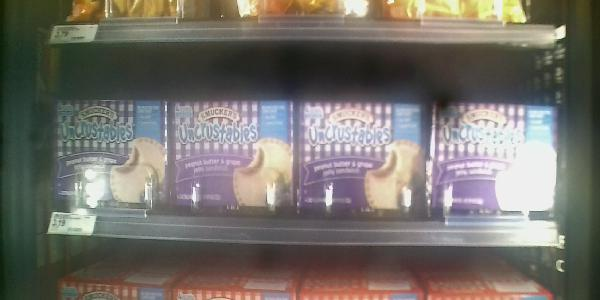icecream: (294, 88, 433, 227), (432, 92, 559, 225), (168, 92, 296, 222), (53, 89, 169, 213)
